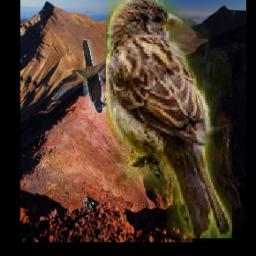Crow: (82, 40, 106, 114)
Sparrow: (105, 0, 231, 239)
Woodpecker: (82, 192, 100, 214)
